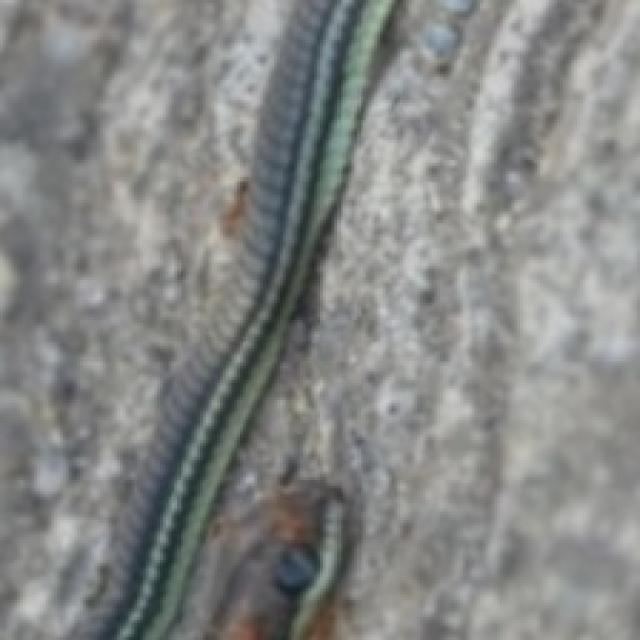philippine bronzeback treesnake: (69, 0, 393, 639)
